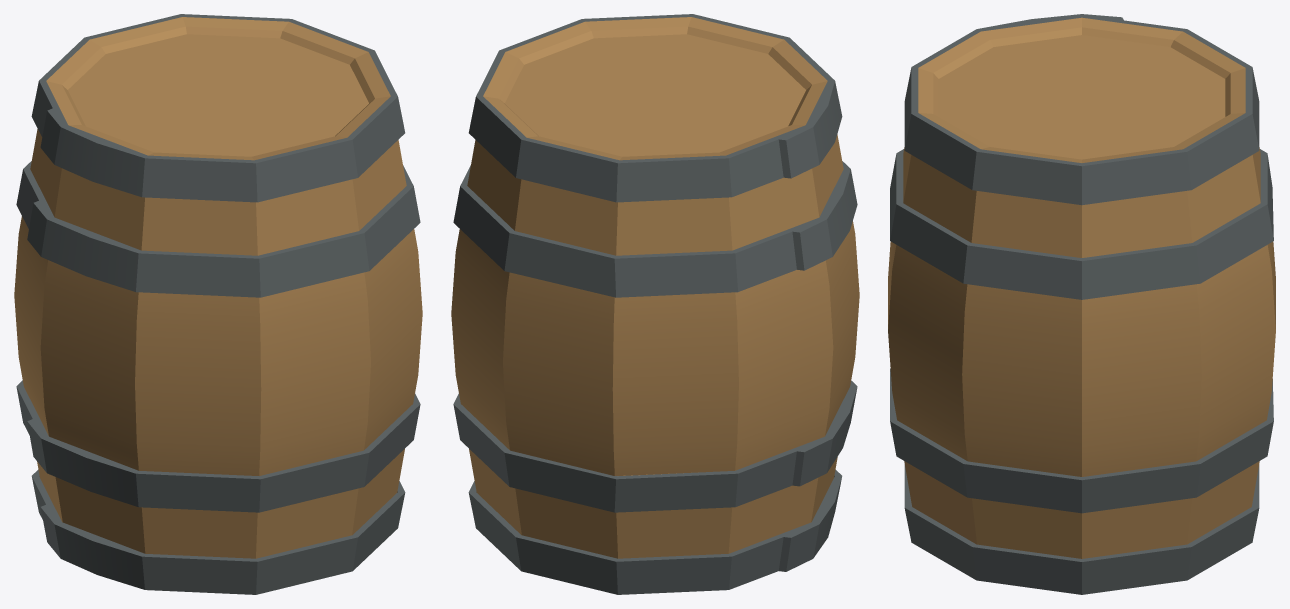
Rendered from barrel_upright.fbx.
The picture shows the model from 3 angles, left to right: view 1: azimuth 30°, elevation 25°; view 2: azimuth 150°, elevation 25°; view 3: azimuth 270°, elevation 25°; orthographic projection.
Visible parts, largest first — view 1: barrel_upright; view 2: barrel_upright; view 3: barrel_upright.
Part boxes in pixels (x1,y1,x2,y2): barrel_upright: (14, 14, 422, 594); barrel_upright: (451, 14, 859, 594); barrel_upright: (888, 14, 1275, 594).
Size of the model in its own units: 102 by 118 by 96.9.
